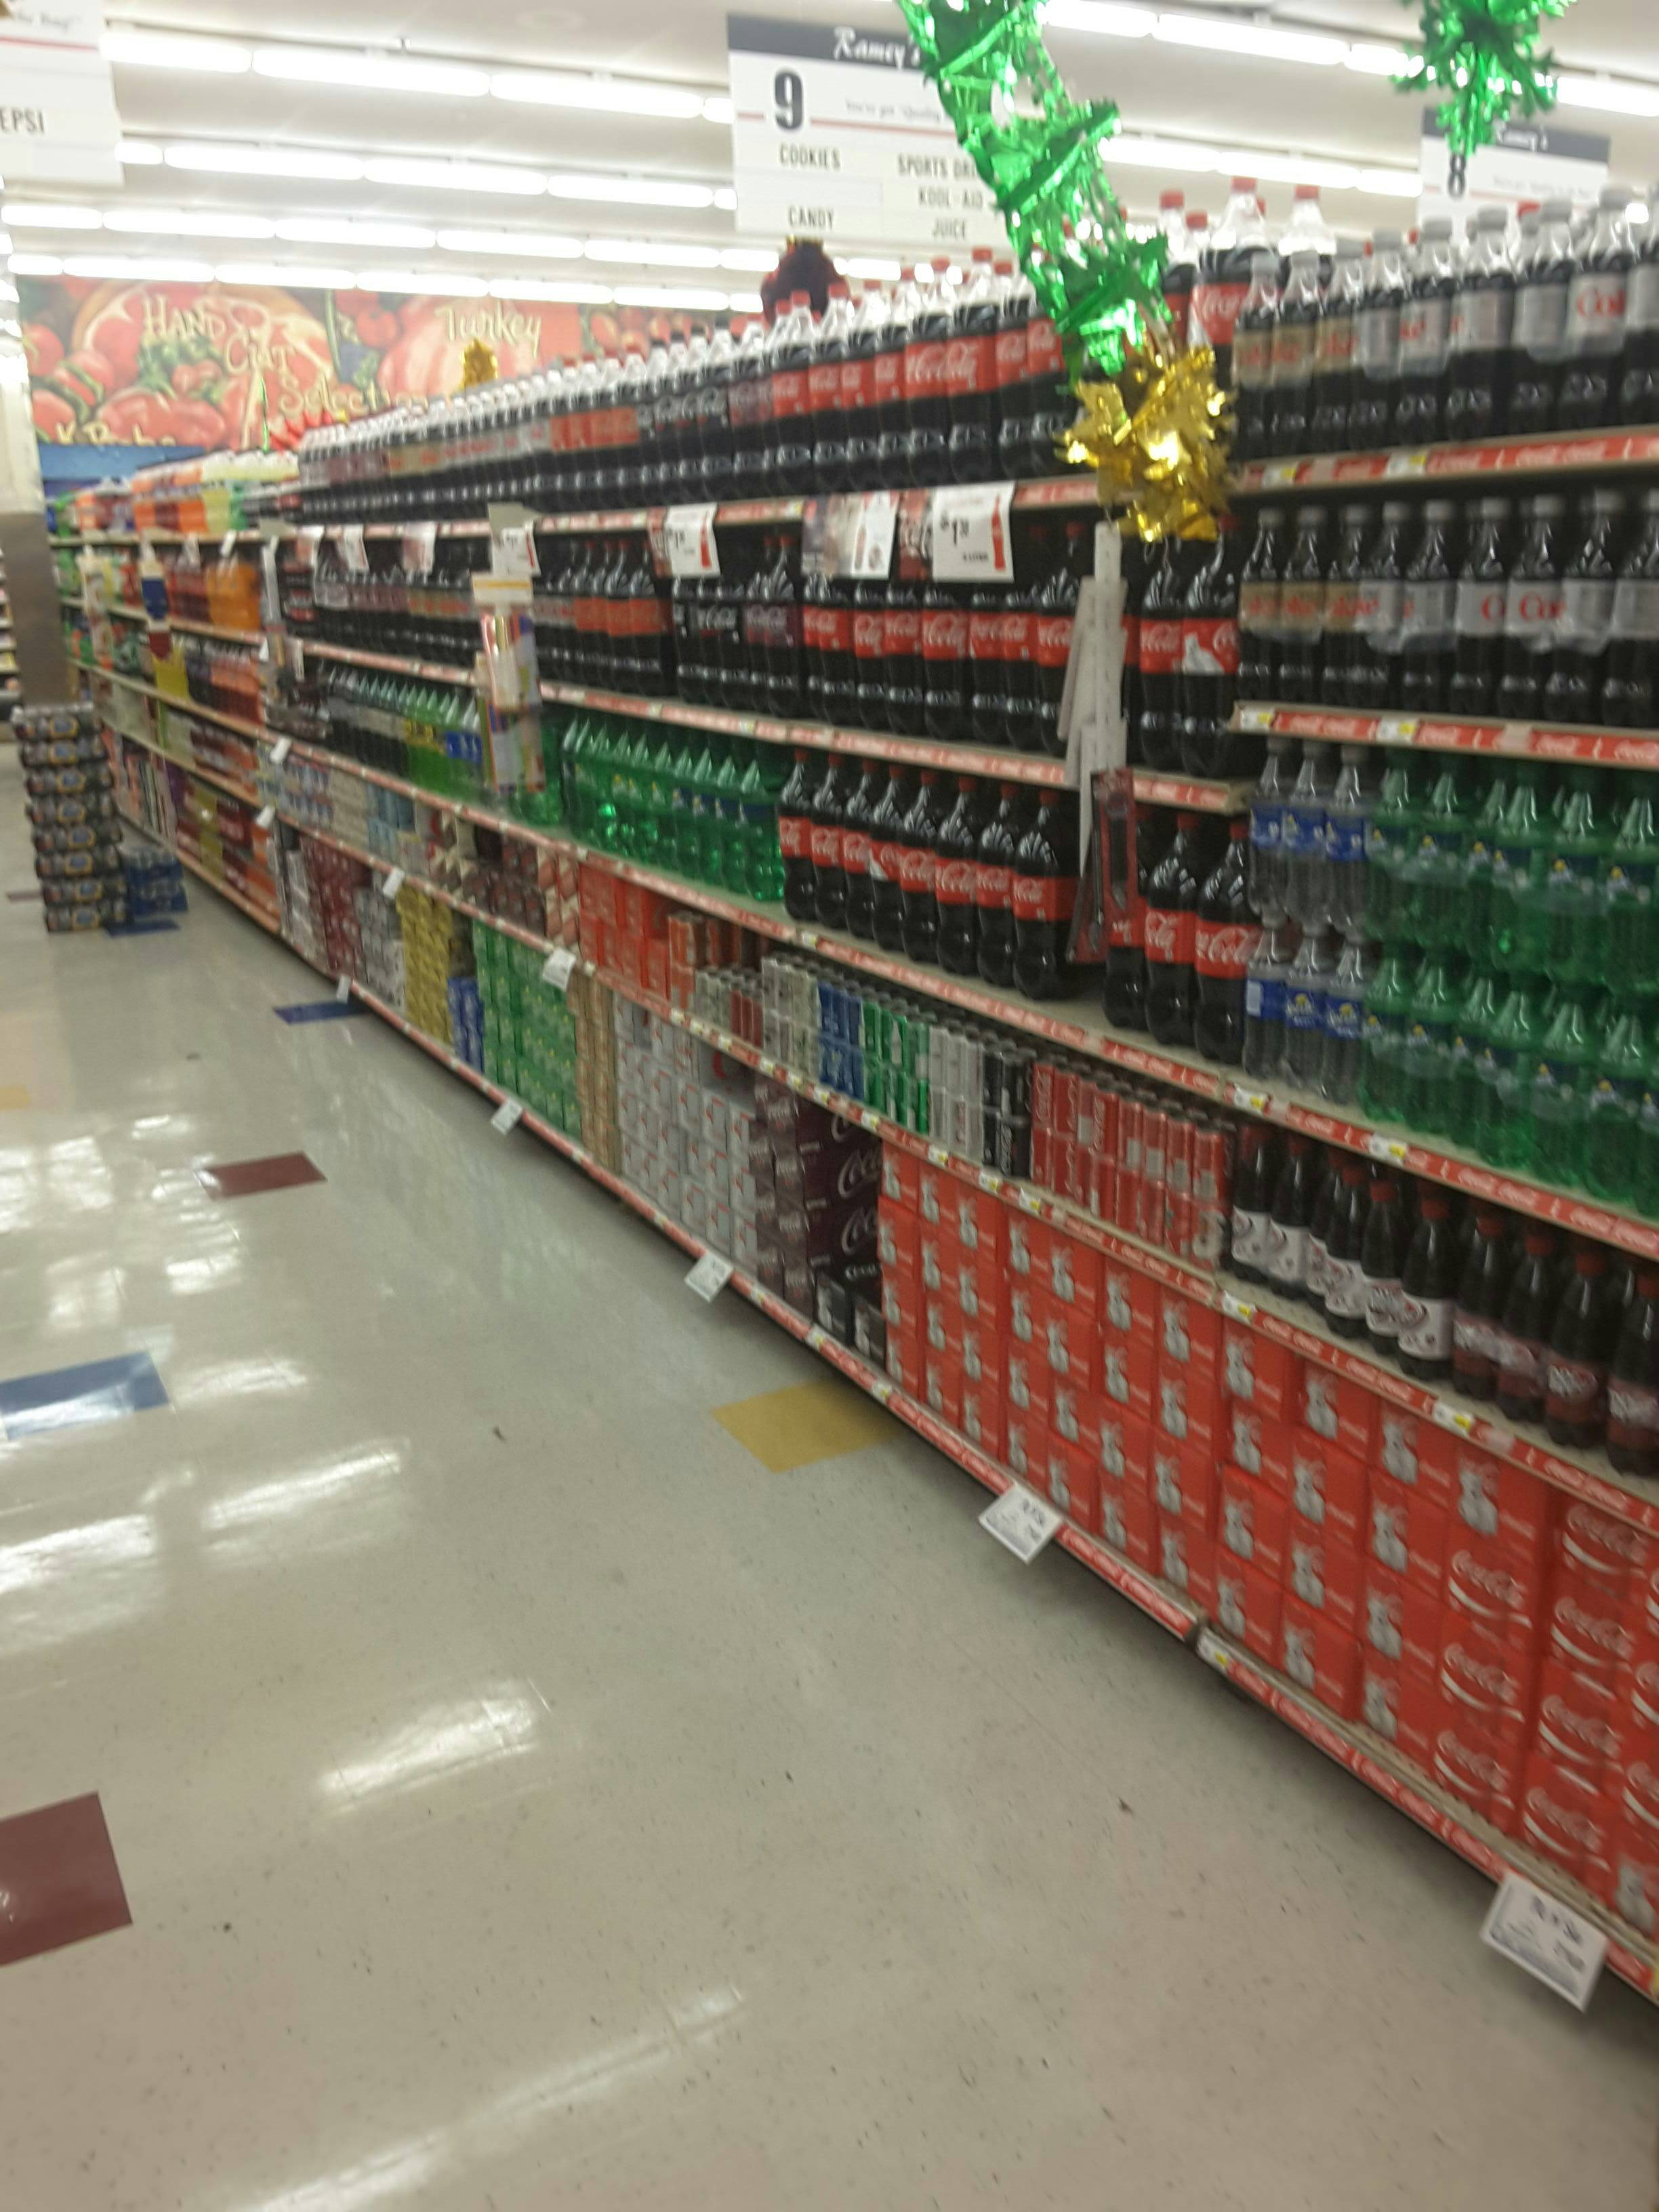Misplacement: (796, 1097, 887, 1374), (699, 1043, 756, 1284)
